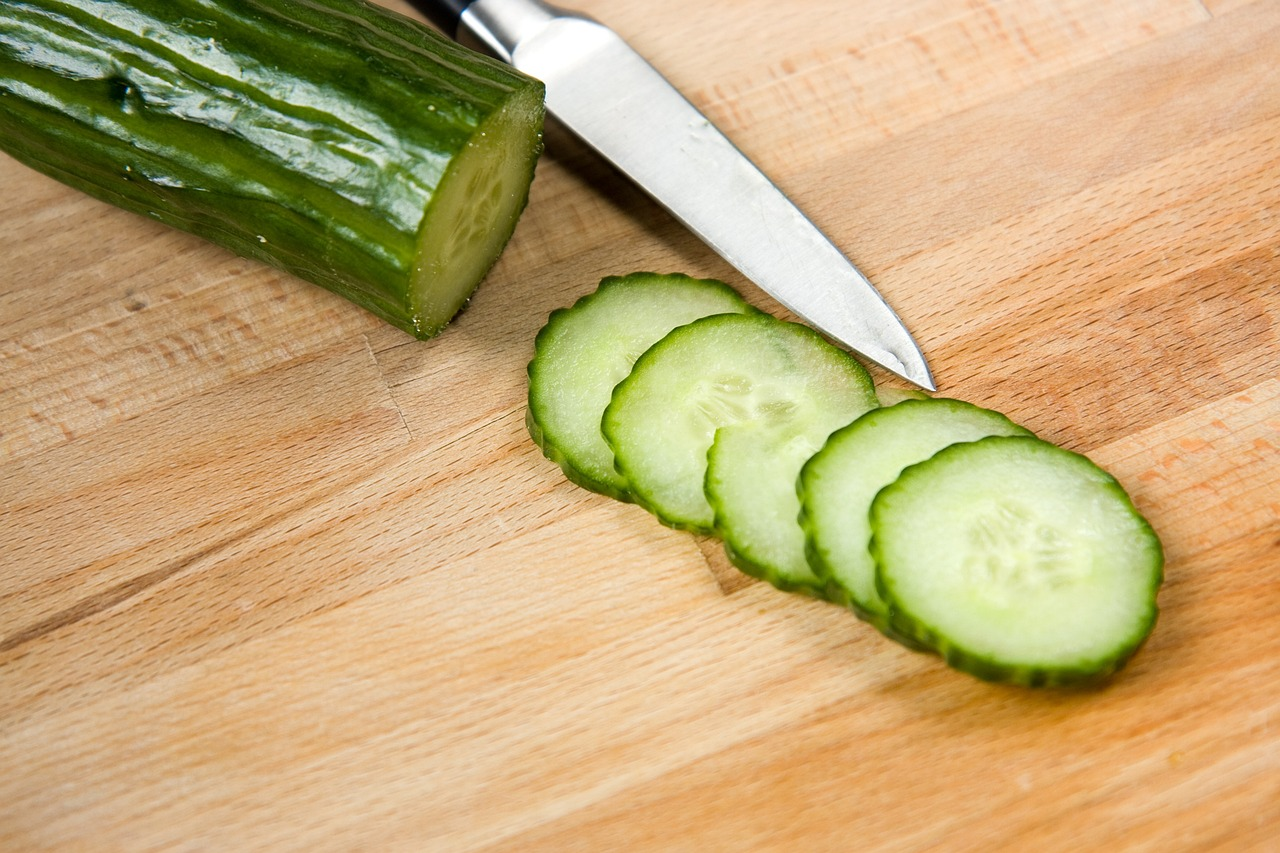knife: (399, 0, 948, 404)
